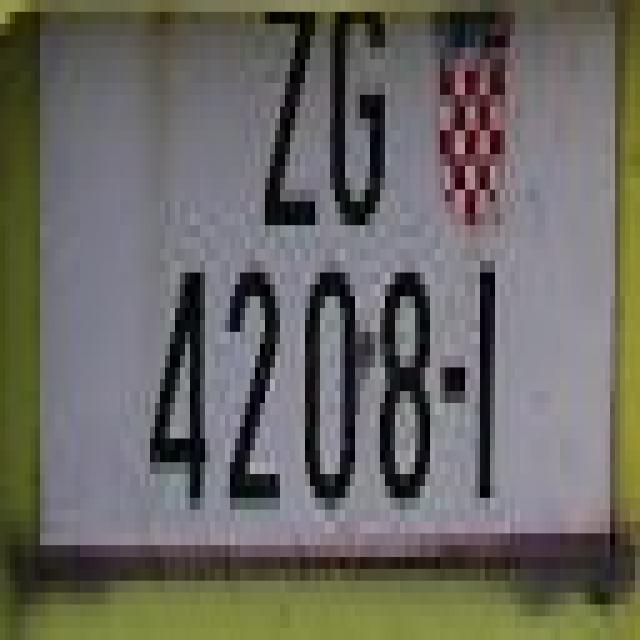0: (300, 260, 360, 510)
2: (230, 260, 290, 510)
4: (150, 260, 210, 510)
8: (370, 260, 430, 510)
G: (330, 0, 390, 213)
Z: (260, 0, 320, 213)
